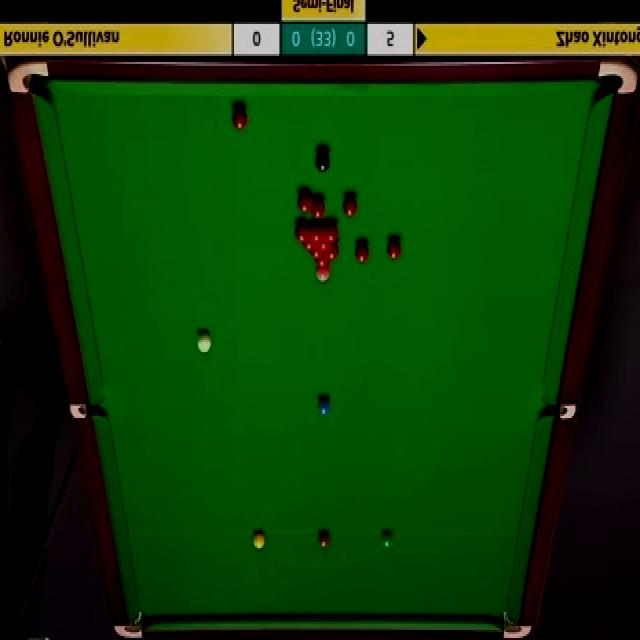black-ball: (315, 146, 331, 175)
blue-ball: (317, 393, 330, 417)
brown-ball: (317, 530, 331, 548)
green-ball: (380, 528, 394, 550)
pink-ball: (316, 268, 330, 284)
red-ball: (231, 104, 248, 132), (386, 236, 403, 262), (354, 240, 370, 265), (342, 194, 358, 217), (297, 190, 312, 214), (323, 221, 339, 243), (311, 197, 325, 219), (294, 220, 308, 242), (310, 223, 323, 243), (326, 242, 339, 260), (307, 250, 326, 260), (314, 258, 332, 268), (317, 242, 333, 252), (302, 242, 317, 251)
white-ball: (195, 326, 212, 356)
yellow-ball: (252, 530, 266, 550)
